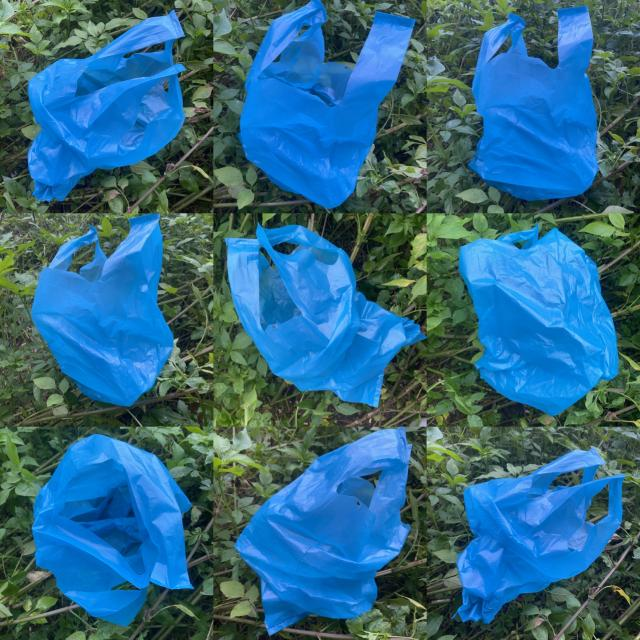Single-layer Plastic: (239, 0, 414, 208), (235, 428, 411, 634), (227, 225, 425, 406), (459, 225, 619, 415), (32, 435, 192, 624), (28, 11, 185, 201), (458, 449, 625, 624), (31, 214, 174, 406), (469, 6, 598, 200)
